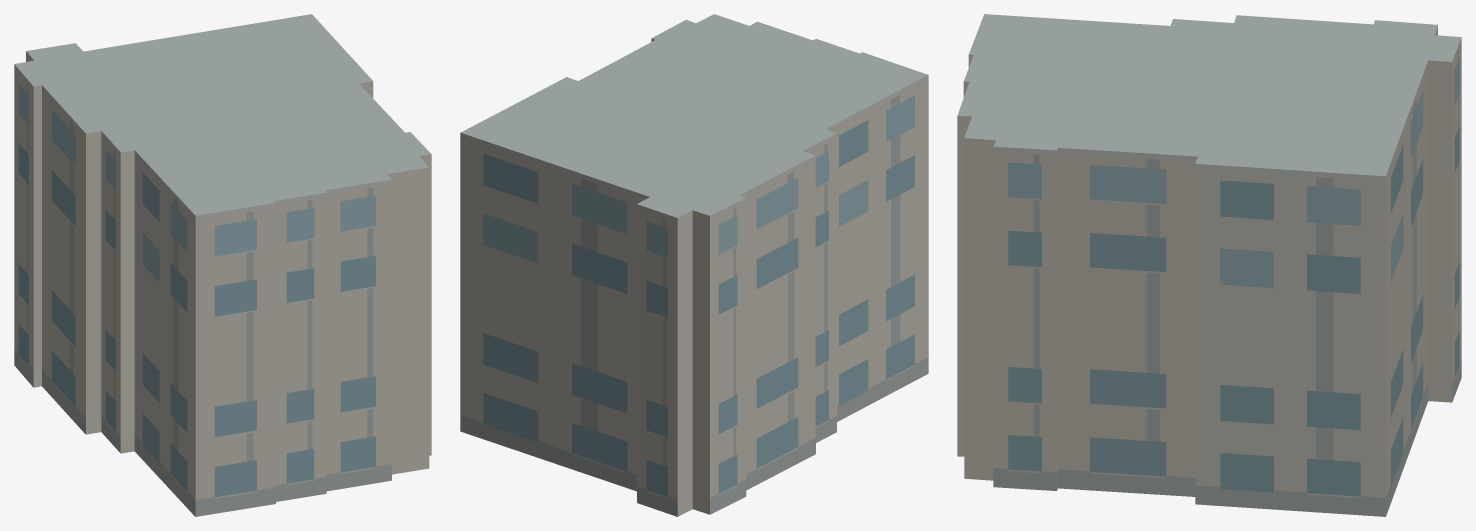
The model's file is survey-upis-32816581.glb.
3 renders of one model, left to right at view 1: azimuth 30°, elevation 25°; view 2: azimuth 150°, elevation 25°; view 3: azimuth 270°, elevation 25°, orthographic. The views are drawn at different scales.
Parts seen in each view (by area): view 1: survey-upis-32816581.tmp; view 2: survey-upis-32816581.tmp; view 3: survey-upis-32816581.tmp.
Part boxes in pixels (x1,y1,x2,y2): survey-upis-32816581.tmp: (14,14,431,516); survey-upis-32816581.tmp: (460,14,928,516); survey-upis-32816581.tmp: (957,14,1461,516).
Size of the model in its own units: 15.65 by 15.3 by 20.54.
